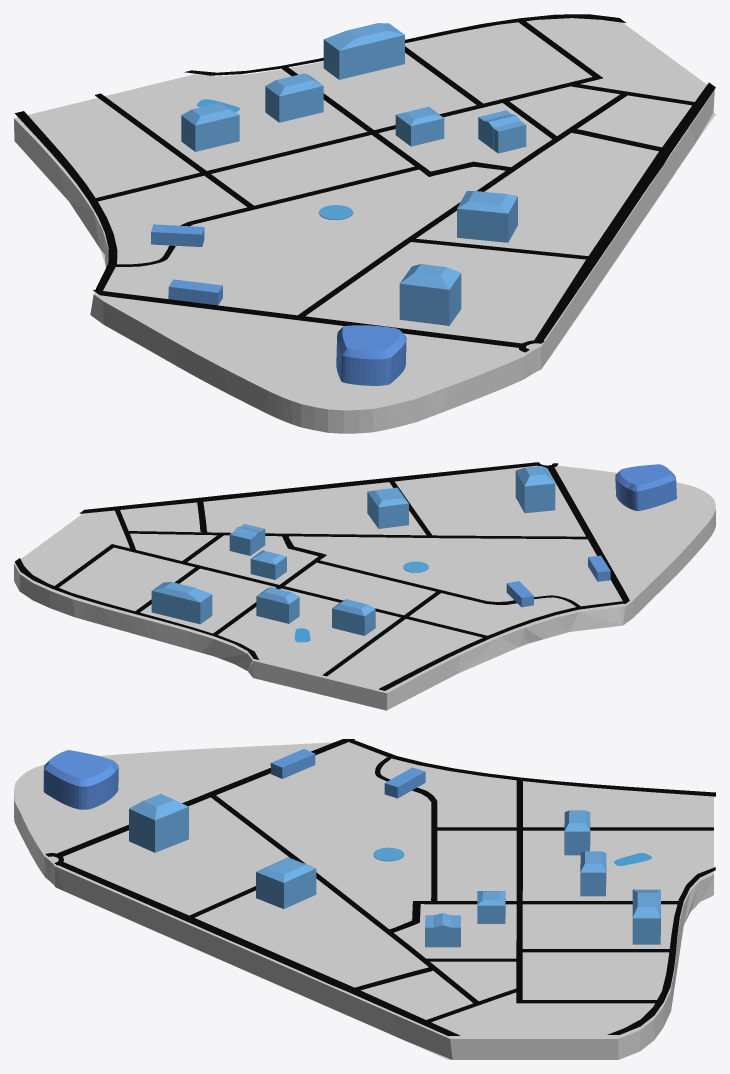
Rendered from ntu_map1.glb.
3 views of the same model, one above another, from view 1: azimuth 30°, elevation 25°; view 2: azimuth 150°, elevation 25°; view 3: azimuth 270°, elevation 25° (orthographic). The views are drawn at different scales.
Parts seen in each view (by area): view 1: Cube, BézierCurve.003, Plane.004, Plane.007, BézierCurve.022, Plane.001, Plane.005, Plane.006, BézierCurve.019, BézierCurve.017, BézierCurve.002, Plane.003 (+10 smaller); view 2: Cube, BézierCurve.003, BézierCurve.022, Plane.004, Plane.007, Plane.001, BézierCurve.017, Plane.005, Plane.006, BézierCurve.002, BézierCurve.019, BézierCurve.018 (+9 smaller); view 3: Cube, BézierCurve.003, BézierCurve.022, Plane.007, Plane.001, BézierCurve.017, Plane.004, BézierCurve.002, BézierCurve.018, Plane.005, BézierCurve.019, Plane.006 (+11 smaller).
Part boxes in pixels (x1,y1,x2,y2): Cube: (14,18,715,433); BézierCurve.003: (336,325,406,385); Plane.004: (323,23,404,79); Plane.007: (399,264,461,325); BézierCurve.022: (534,82,715,342); Plane.001: (457,191,517,242); Plane.005: (265,73,323,122); Plane.006: (181,102,239,151); BézierCurve.019: (93,289,522,347); BézierCurve.017: (296,93,627,316); BézierCurve.002: (15,111,117,290); Plane.003: (395,106,444,146); Cube: (14,465,715,710); BézierCurve.003: (615,464,676,510); BézierCurve.022: (79,462,537,513); Plane.004: (151,582,212,624); Plane.007: (515,466,555,513); Plane.001: (367,487,408,528); BézierCurve.017: (128,531,587,539); Plane.005: (256,587,299,623); Plane.006: (332,599,375,635); BézierCurve.002: (378,601,624,690); BézierCurve.019: (547,466,629,603); BézierCurve.018: (15,558,258,659); Cube: (14,742,713,1059); BézierCurve.003: (43,750,118,809); BézierCurve.022: (56,861,460,1035); Plane.007: (129,794,188,852); Plane.001: (256,857,316,908); BézierCurve.017: (208,794,478,1003); Plane.004: (632,889,660,944); BézierCurve.002: (348,740,715,796); BézierCurve.018: (607,867,715,1034); Plane.005: (580,851,606,896); BézierCurve.019: (57,739,354,856); Plane.006: (564,810,590,855).
Size of the model in its own units: 242 by 24.18 by 242.
